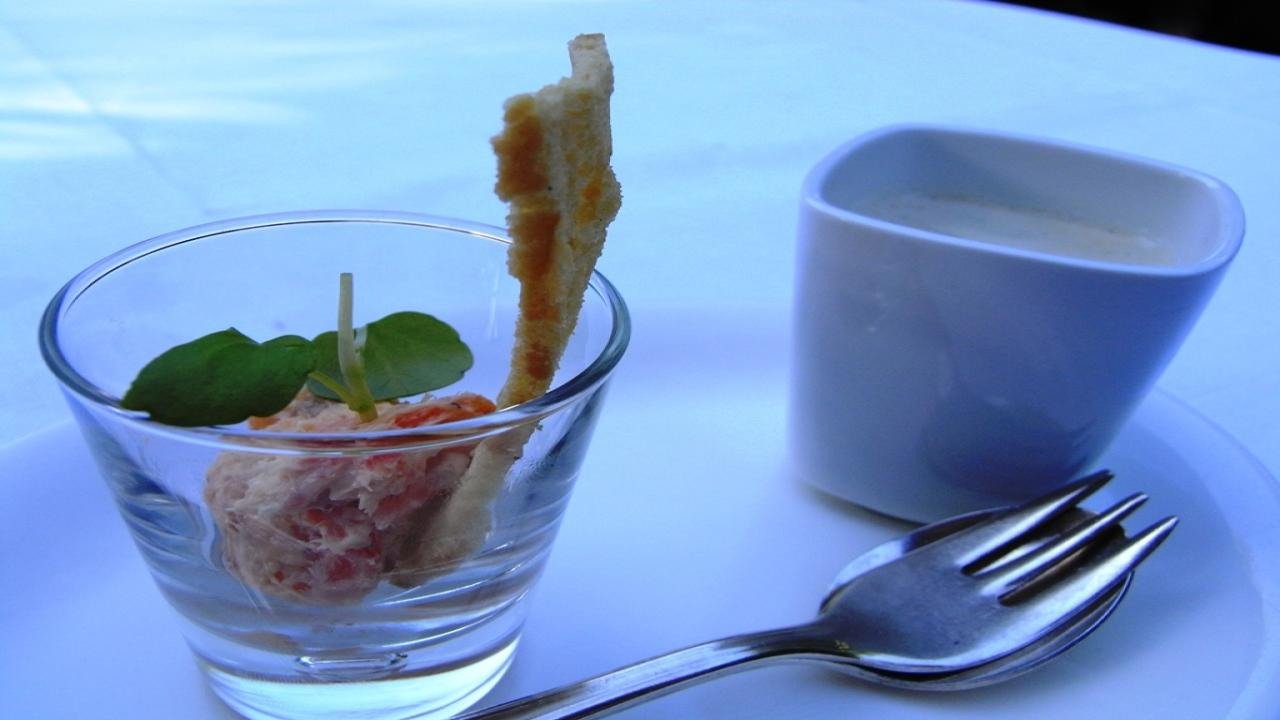fork: (447, 470, 1181, 720)
